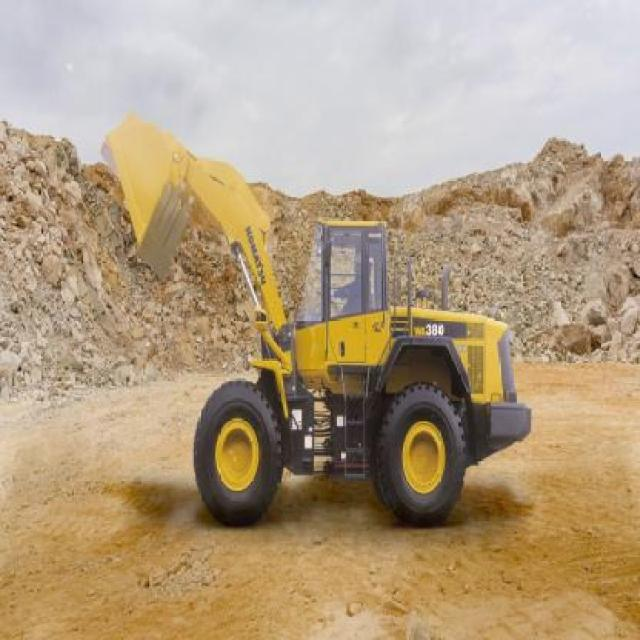buldozerpayloadergrader: (94, 106, 534, 540)
